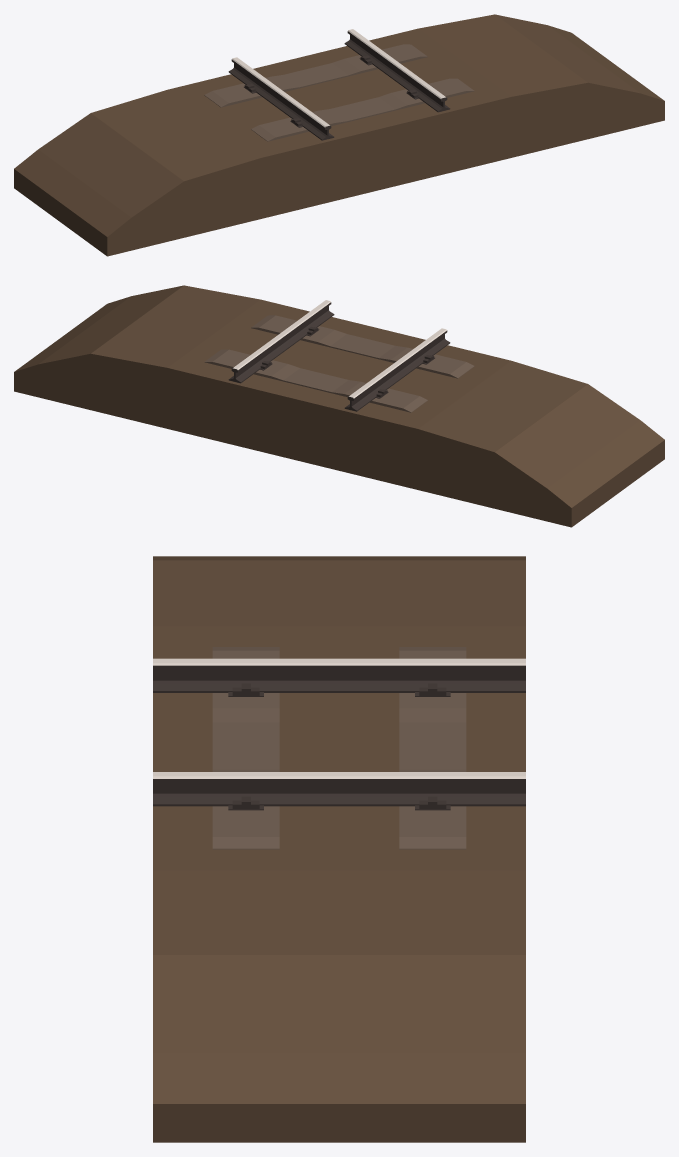
Rendered from track_close.fbx.
3 views of the same model, one above another, from view 1: azimuth 30°, elevation 25°; view 2: azimuth 150°, elevation 25°; view 3: azimuth 270°, elevation 25° (orthographic). The views are drawn at different scales.
Parts seen in each view (by area): view 1: p411_TrackClose; view 2: p411_TrackClose; view 3: p411_TrackClose.
Part boxes in pixels (box(x1,y1,x2,y2)): p411_TrackClose: box(14, 14, 664, 256); p411_TrackClose: box(14, 285, 664, 527); p411_TrackClose: box(153, 556, 525, 1142).
Bounding box in the file's own units: 6.9 × 0.905 × 2.
